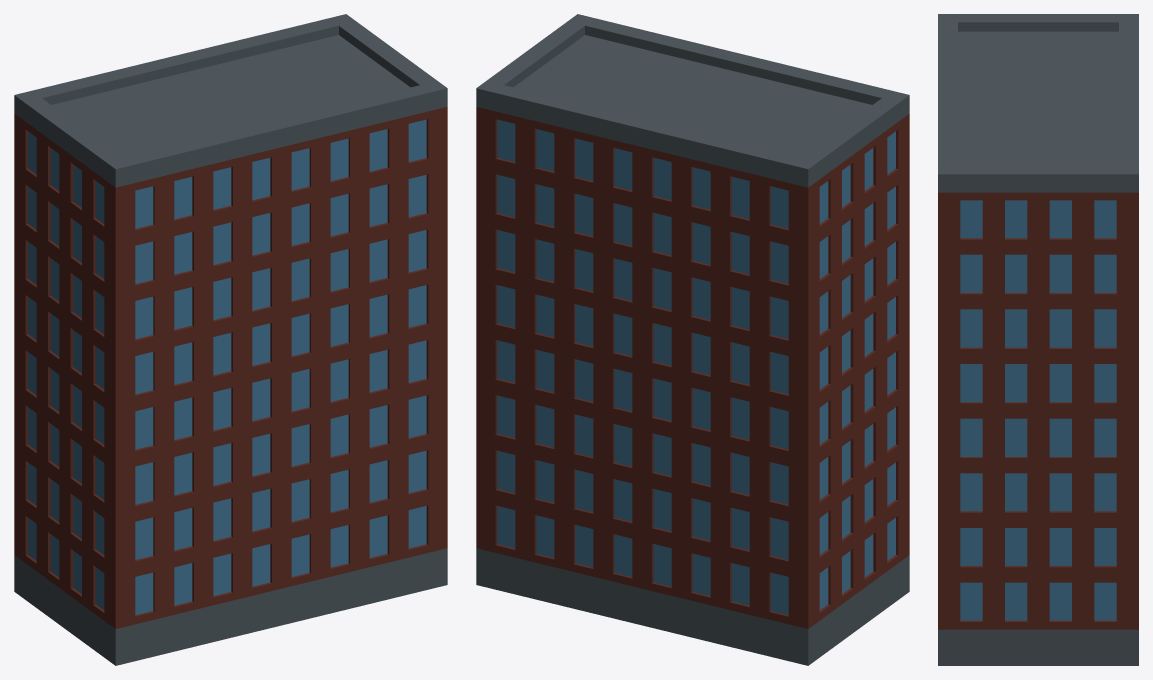
The model's file is Build_03.fbx.
3 views of the same model, side by side, from view 1: azimuth 30°, elevation 25°; view 2: azimuth 150°, elevation 25°; view 3: azimuth 270°, elevation 25° (orthographic).
Parts seen in each view (by area): view 1: Build_03; view 2: Build_03; view 3: Build_03.
Boxes of the visible parts, x1=… form: Build_03: x1=14, y1=14, x2=447, y2=665; Build_03: x1=476, y1=14, x2=909, y2=665; Build_03: x1=938, y1=14, x2=1138, y2=665.
Bounding box in the file's own units: 18.89 × 27 × 10.
